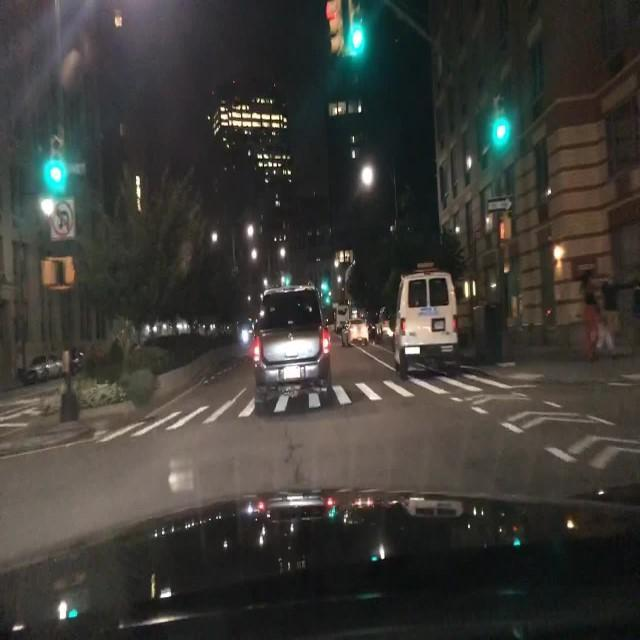normal: (226, 241, 476, 409)
